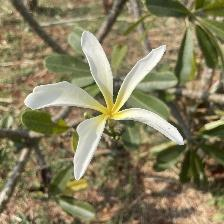champaka: (24, 27, 188, 183)
